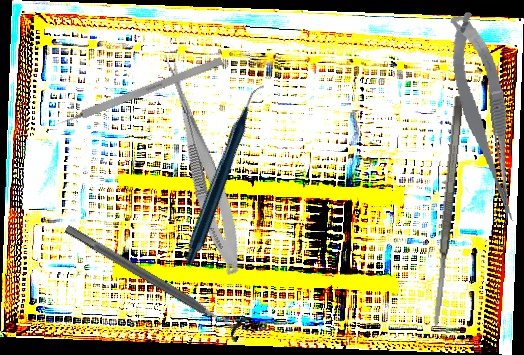Fixation Ring: (58, 214, 252, 344)
Handpiece: (127, 84, 325, 267)
Hook Surgical: (49, 56, 224, 131)
Micro Scissor: (150, 49, 252, 279), (444, 7, 523, 228)
Spatula Surgical: (429, 95, 466, 327)
